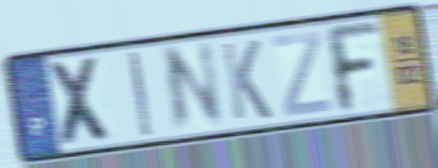F: (320, 20, 384, 117)
I: (126, 48, 154, 140)
K: (219, 37, 274, 123)
N: (161, 38, 227, 138)
X: (44, 53, 118, 149)
Z: (269, 27, 333, 120)
